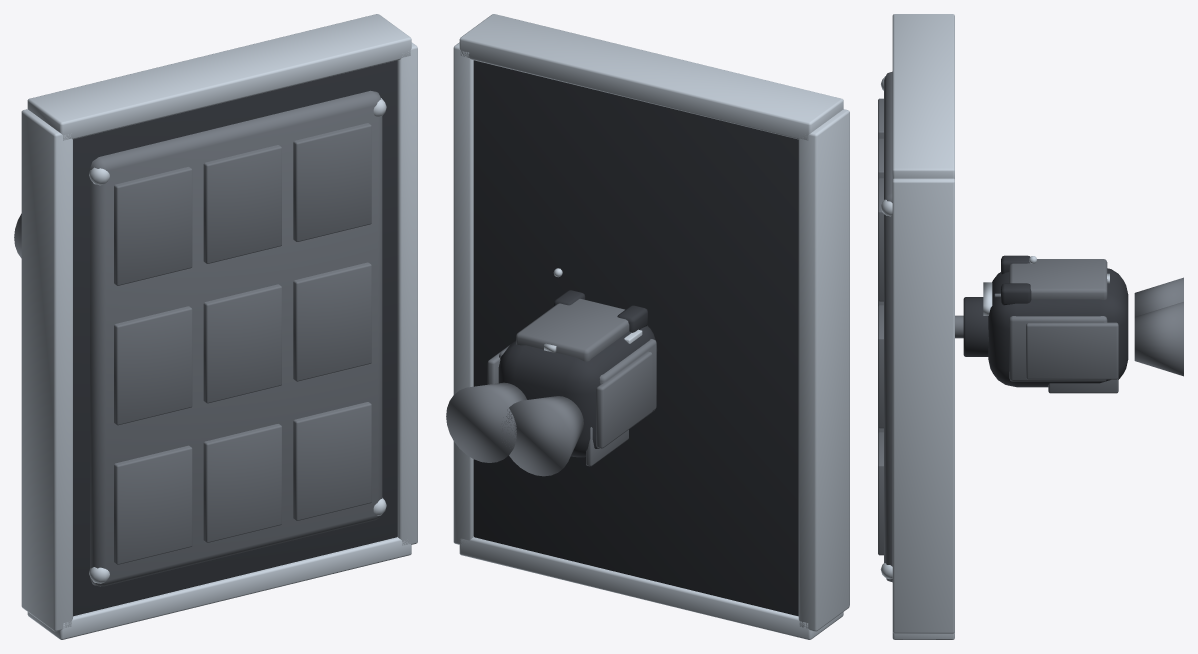
File: weapon_drone_reactive_guard.glb
3 renders of one model, left to right at view 1: azimuth 30°, elevation 25°; view 2: azimuth 150°, elevation 25°; view 3: azimuth 270°, elevation 25°, orthographic. The views are drawn at different scales.
Parts seen in each view (by area): view 1: weapon_drone_reactive_guard; view 2: weapon_drone_reactive_guard; view 3: weapon_drone_reactive_guard.
Boxes of the visible parts, bbox=[...] form: weapon_drone_reactive_guard: bbox=[14, 14, 417, 639]; weapon_drone_reactive_guard: bbox=[446, 14, 849, 639]; weapon_drone_reactive_guard: bbox=[878, 14, 1183, 639].
Bounding box in the file's own units: 2.02 × 2.75 × 1.61.
